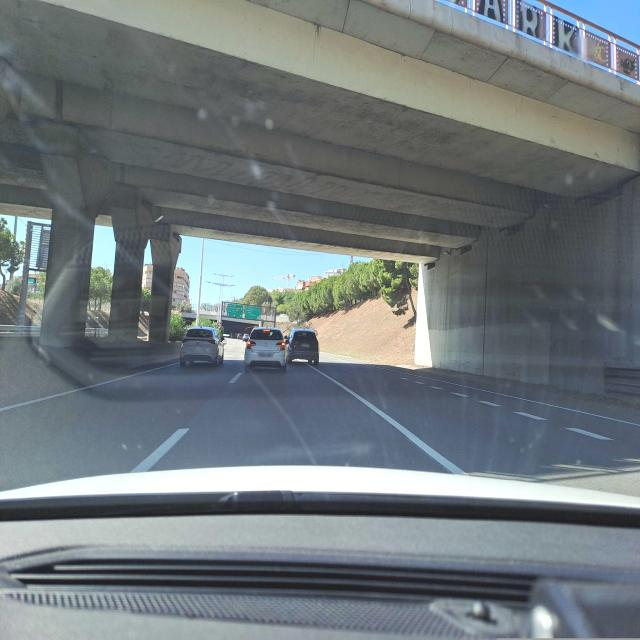car: (243, 326, 287, 372), (180, 326, 224, 366), (284, 326, 320, 366)
